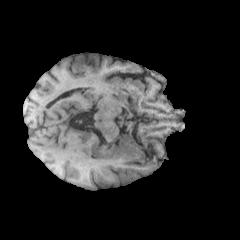glioma: (90, 138, 143, 162)
